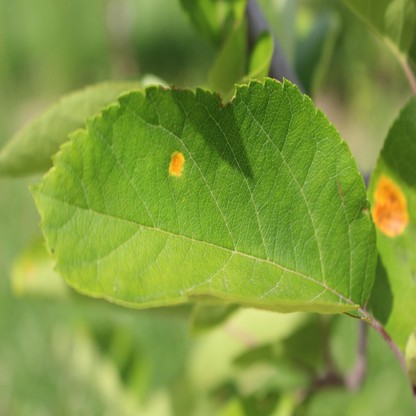rust: (372, 177, 407, 236), (170, 153, 184, 177)
